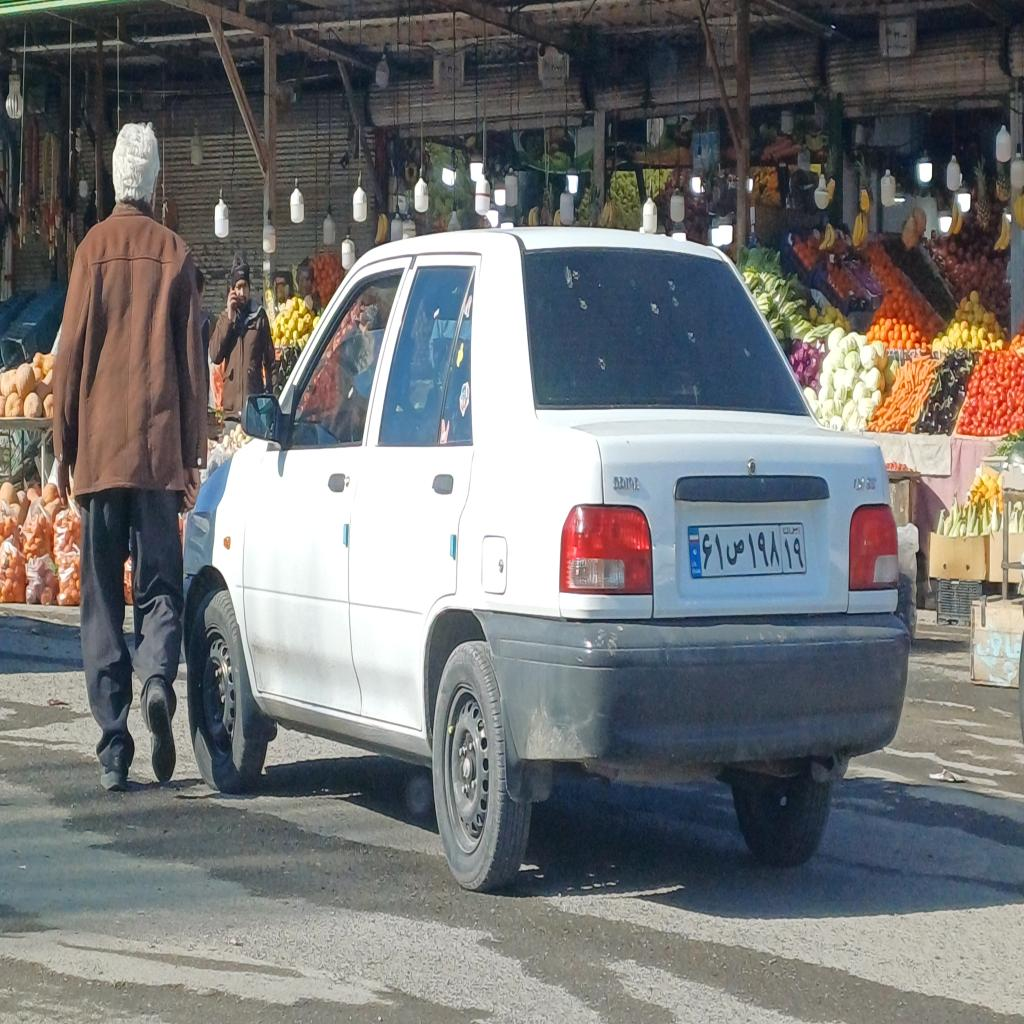Plates: (688, 522, 806, 580)
